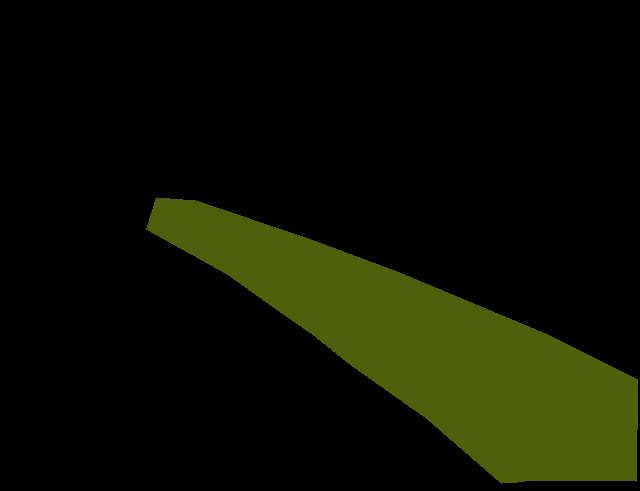Train: (146, 197, 637, 484)
